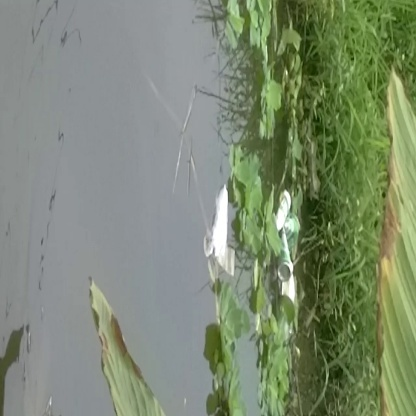bottle: (278, 204, 304, 284)
plastic-bag: (200, 176, 241, 281)
